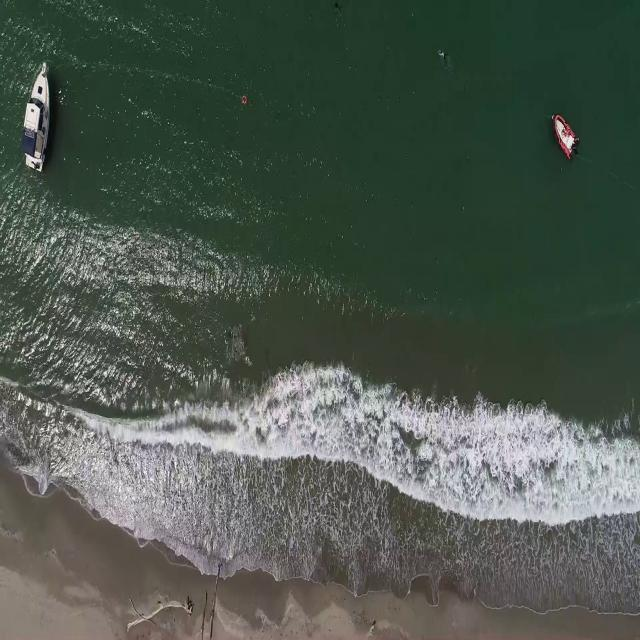boat: (19, 59, 50, 167), (550, 113, 581, 160)
life_buoy: (238, 92, 250, 106)
person: (436, 44, 450, 68), (331, 0, 343, 11)
wood: (125, 596, 193, 630), (200, 563, 220, 640)
